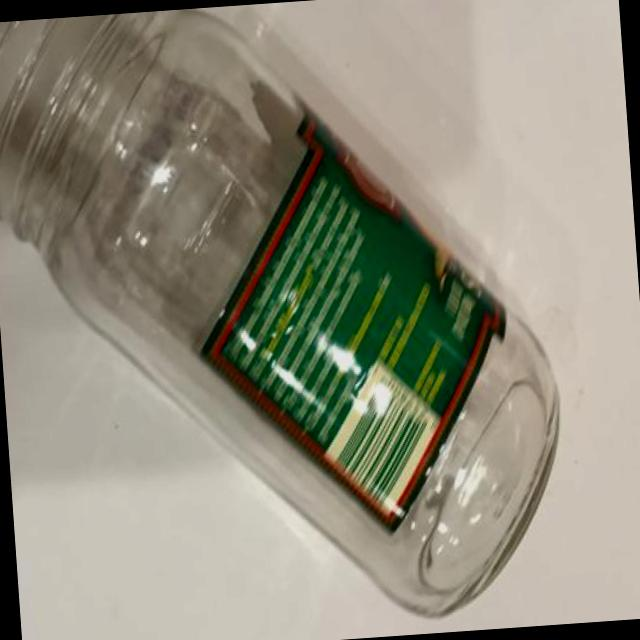chai_thuy_tinh: (0, 7, 555, 616)
